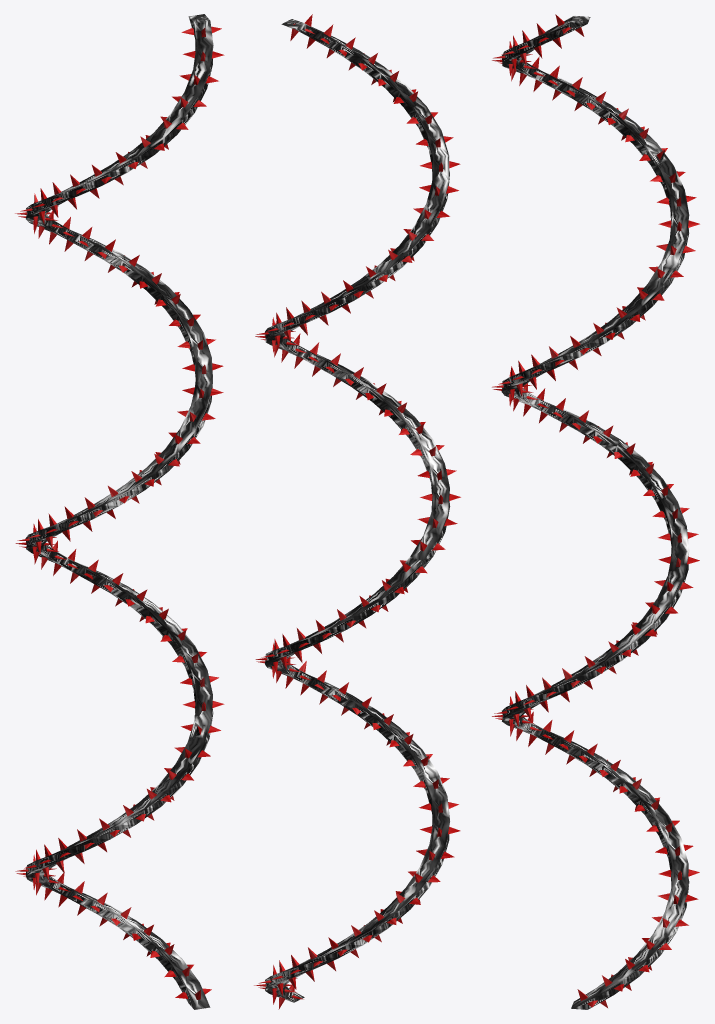
File: obj_spiral.obj
The picture shows the model from 3 angles, left to right: view 1: azimuth 30°, elevation 25°; view 2: azimuth 150°, elevation 25°; view 3: azimuth 270°, elevation 25°; orthographic projection.
Visible parts, largest first — view 1: Cube.001_Cube.014; view 2: Cube.001_Cube.014; view 3: Cube.001_Cube.014.
Part boxes in pixels (<box>): Cube.001_Cube.014: <box>15,14,224,1009</box>; Cube.001_Cube.014: <box>254,14,460,1009</box>; Cube.001_Cube.014: <box>492,14,699,1009</box>.
Bounding box in the file's own units: 24.77 × 129 × 24.77.
Materials: 1 (1 with a texture image).
